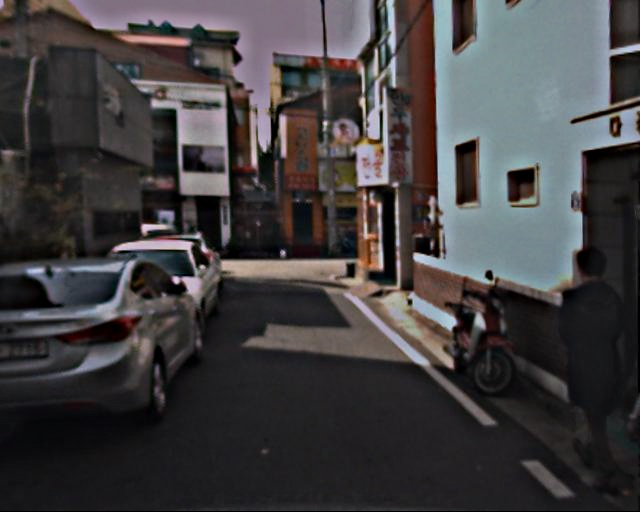person: (541, 246, 640, 481)
